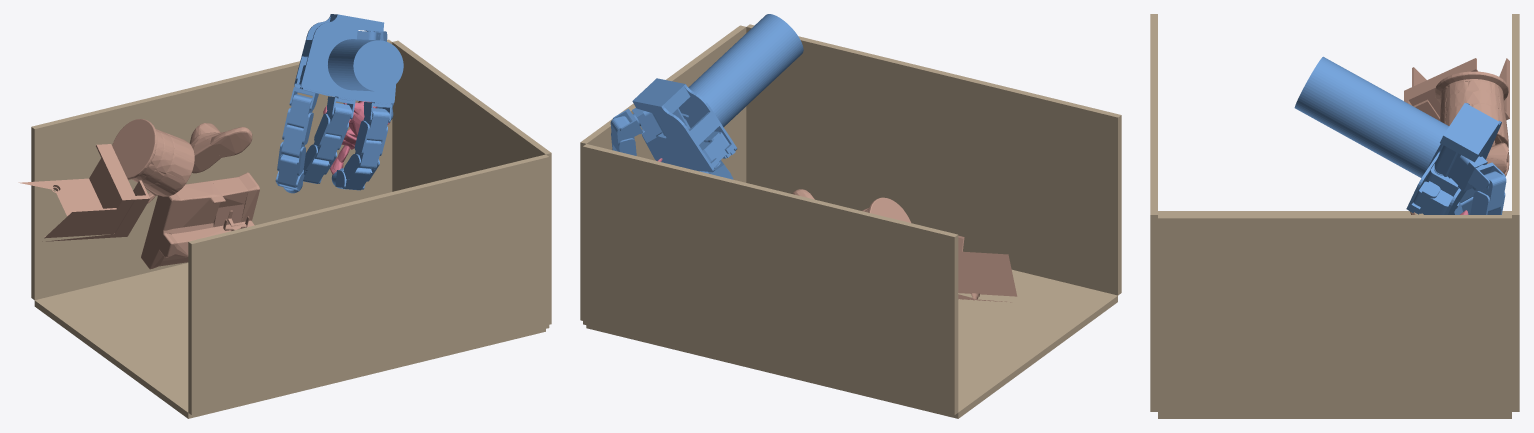
The picture shows the model from 3 angles, left to right: view 1: azimuth 30°, elevation 25°; view 2: azimuth 150°, elevation 25°; view 3: azimuth 270°, elevation 25°; orthographic projection. The views are drawn at different scales.
Parts seen in each view (by area): view 1: environment, hand, obstacle_001, obstacle_003, obstacle_000, obstacle_002, world; view 2: environment, hand, obstacle_003, obstacle_000; view 3: environment, hand, obstacle_000, obstacle_003, obstacle_002.
Boxes of the visible parts, x1,y1,x2,y2 form: environment: (31,39,551,418); hand: (275,14,403,193); obstacle_001: (141,172,259,269); obstacle_003: (18,144,149,241); obstacle_000: (112,119,194,203); obstacle_002: (189,123,252,173); world: (323,101,390,174); environment: (580,24,1121,418); hand: (610,14,803,179); obstacle_003: (958,235,1017,302); obstacle_000: (861,197,911,222); environment: (1150,14,1519,418); hand: (1294,56,1506,214); obstacle_000: (1435,71,1508,147); obstacle_003: (1404,58,1509,120); obstacle_002: (1486,142,1509,176).
Bounding box in the file's own units: 0.5252 × 0.341 × 0.3759.
